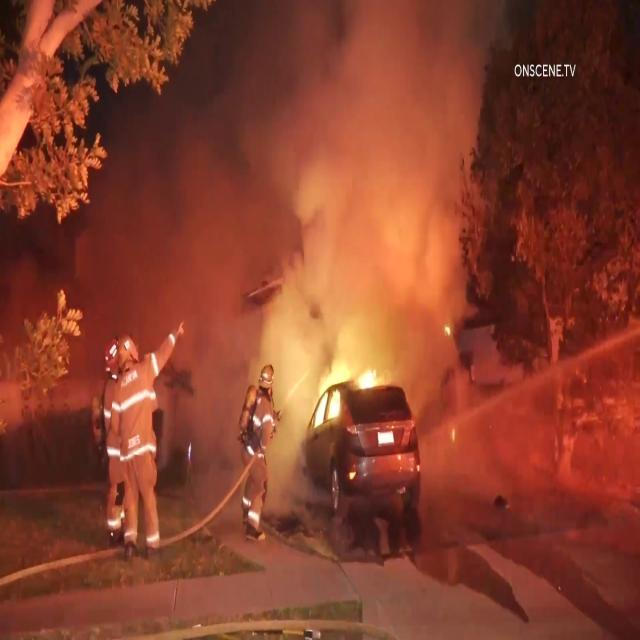fire: (324, 365, 387, 433)
smoke: (124, 114, 469, 349), (215, 9, 483, 209), (432, 352, 550, 494), (199, 351, 238, 485)
